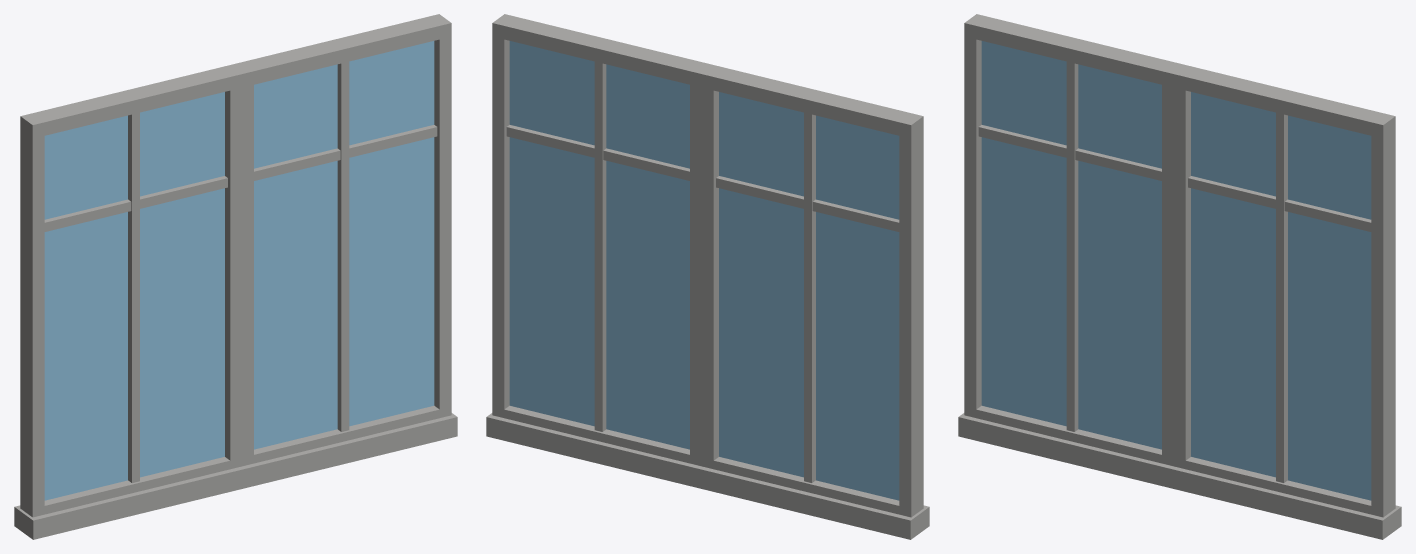
File: Window_Large1.glb
The picture shows the model from 3 angles, left to right: view 1: azimuth 30°, elevation 25°; view 2: azimuth 150°, elevation 25°; view 3: azimuth 330°, elevation 25°; orthographic projection.
Visible parts, largest first — view 1: Window_Large1; view 2: Window_Large1; view 3: Window_Large1.
Part boxes in pixels (x1,y1,x2,y2): Window_Large1: [14, 14, 457, 539]; Window_Large1: [486, 14, 929, 539]; Window_Large1: [958, 14, 1401, 539].
Size of the model in its own units: 1.83 by 1.7 by 0.1411.
